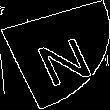N_N: (20, 25, 90, 85)
